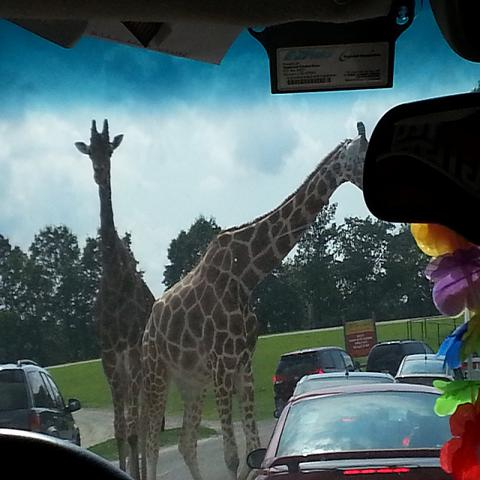car: (251, 377, 452, 469), (0, 359, 82, 447), (273, 346, 362, 419), (292, 370, 397, 396), (366, 340, 436, 378), (394, 354, 456, 383)
